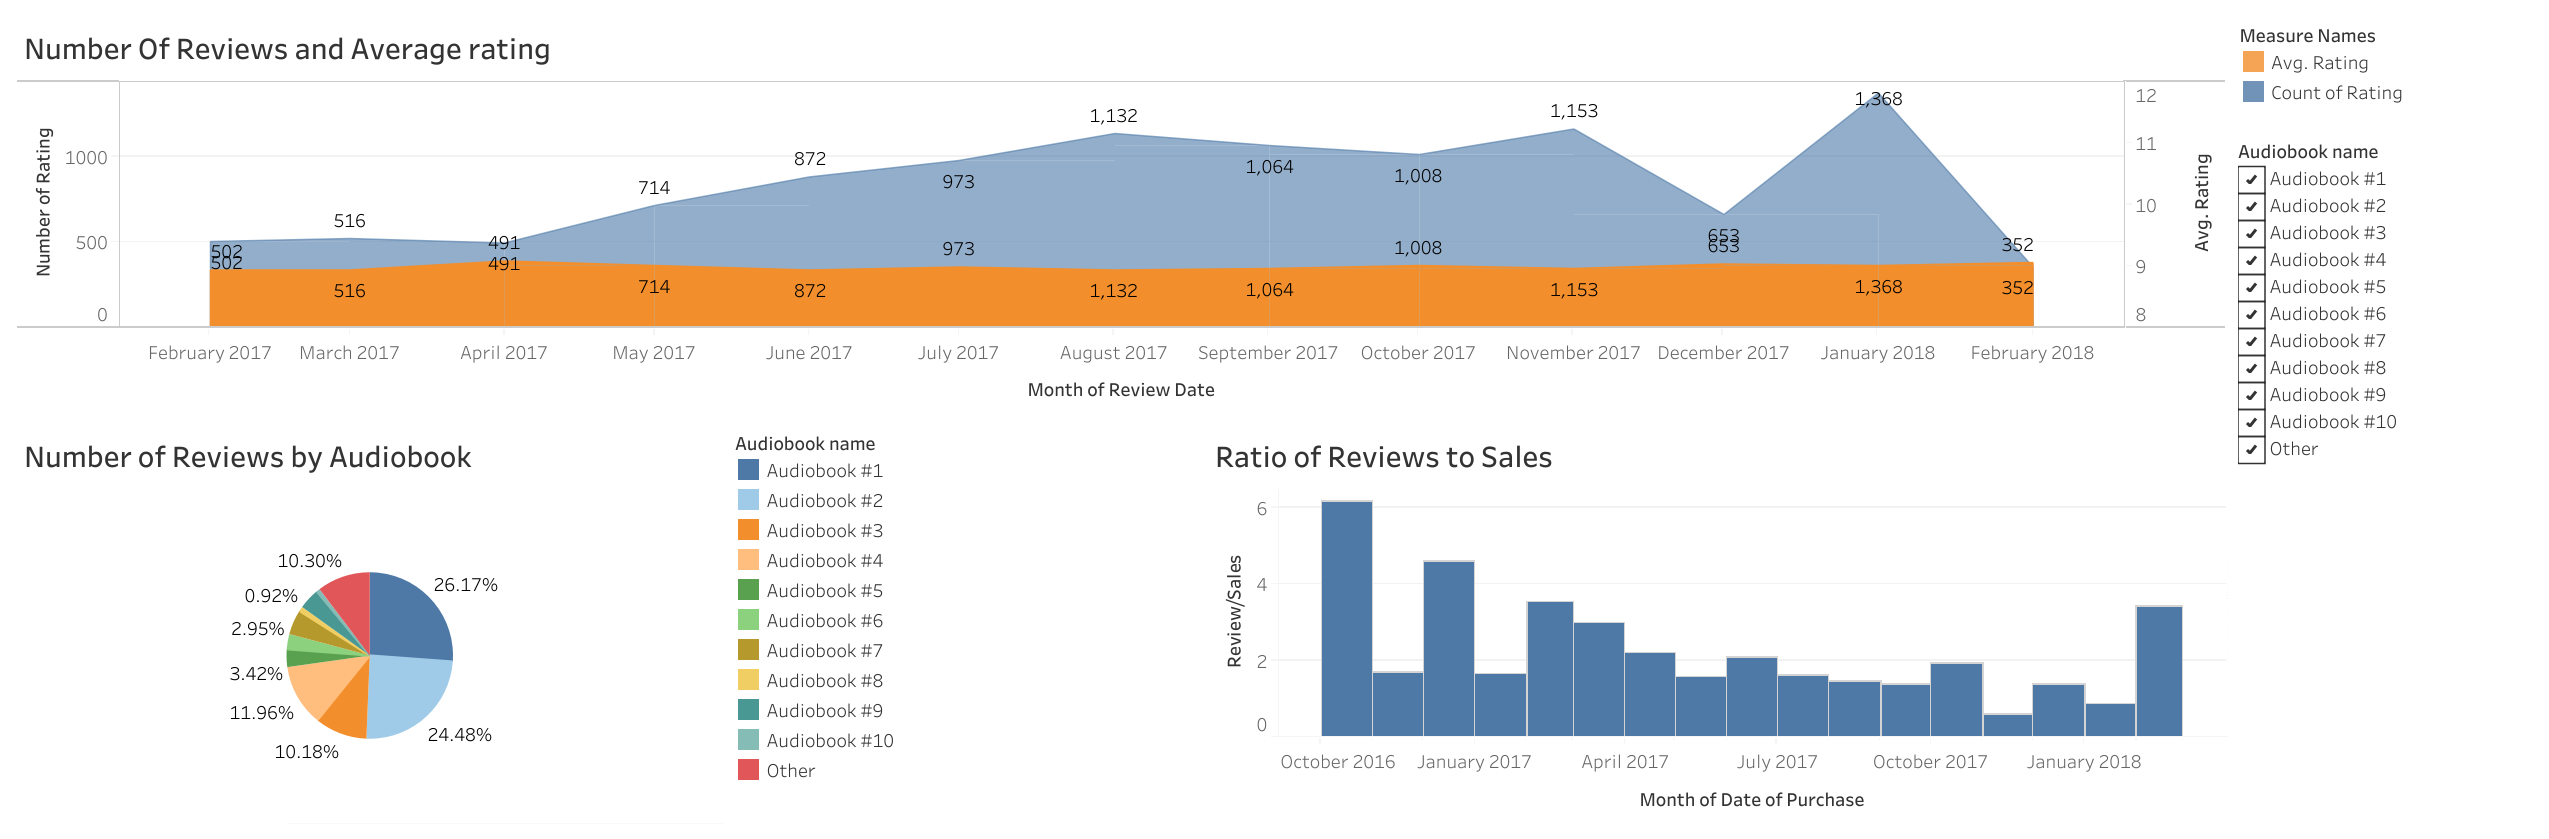

This screenshot's page, from the dashboard's own definition file:
{"tool":"tableau","page":{"name":"Dashboard 1","canvas":[1000,1000],"units":"permille","ordinal":0},"visuals":[{"type":"worksheet","title":"chart1","mark":"Area","rows":["Rating","Rating"],"cols":["Review Date"],"box":[4.7,10.1,870.6,489.3]},{"type":"legend","title":"chart1","param":"[federated.1c46l2h1bpenlb1c8rers0oc9um6].[:Measure Names]","box":[875.3,10.1,120,98.4]},{"type":"filter","title":"chart2","param":"[federated.1c46l2h1bpenlb1c8rers0oc9um6].[none:Audiobook name:nk]","box":[875.3,108.5,120,459]},{"type":"worksheet","title":"chart2","mark":"Pie","box":[4.7,499.4,280.6,490.5]},{"type":"legend","title":"chart2","param":"[federated.1c46l2h1bpenlb1c8rers0oc9um6].[none:Audiobook name:nk]","box":[285.3,499.4,186.5,490.5]},{"type":"worksheet","title":"chart3","mark":"Bar","rows":["Calculation_1022035662203277314"],"cols":["Date of Purchase"],"box":[471.8,499.4,403.5,490.5]}]}

Visuals, with their boxes on the dashboard's canvas, which has no fixed pixel size, in thousandths of its width and height (x1, y1, x2, y2). These are canvas units, not pixel positions in the 2549x839 screenshot, which may show the page scaled, cropped or inside an application window:
"chart1" worksheet (Area marks): 5 10 875 499
"chart1" legend: 875 10 995 108
"chart2" filter: 875 108 995 568
"chart2" worksheet (Pie marks): 5 499 285 990
"chart2" legend: 285 499 472 990
"chart3" worksheet (Bar marks): 472 499 875 990
